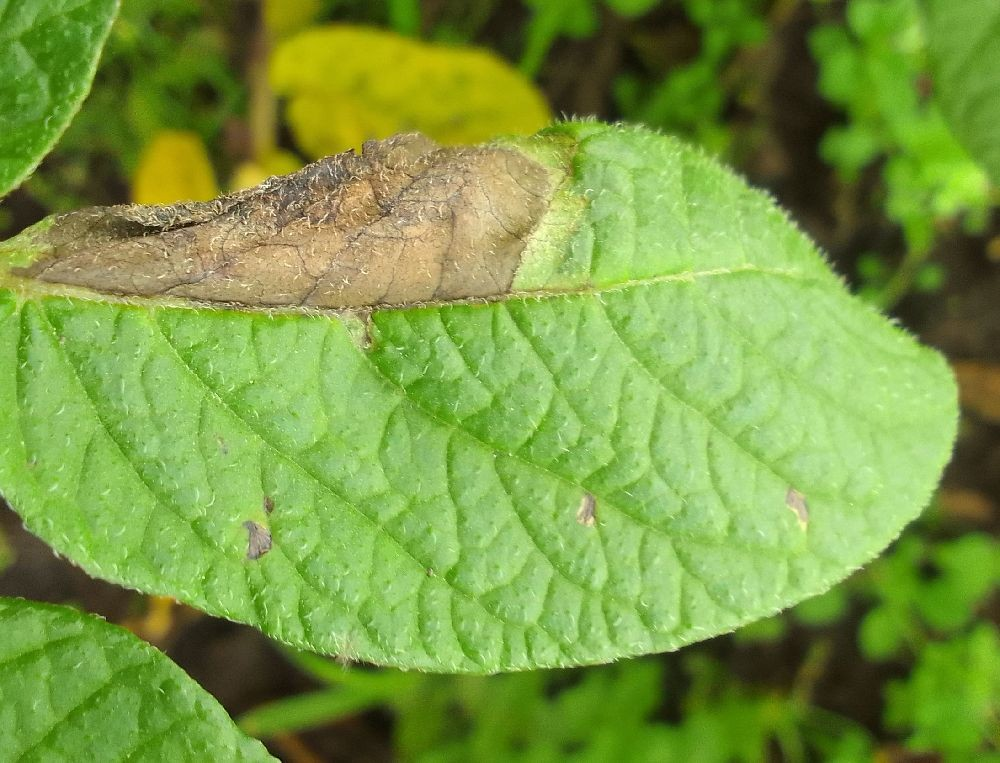late_blight: (650, 0, 1000, 637), (0, 0, 570, 339), (0, 457, 370, 762), (507, 0, 720, 144)
